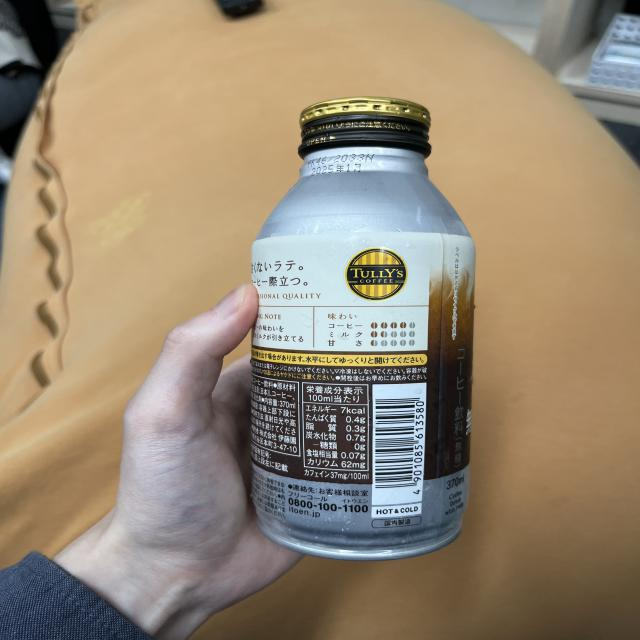coffee-latte: (252, 96, 477, 564)
